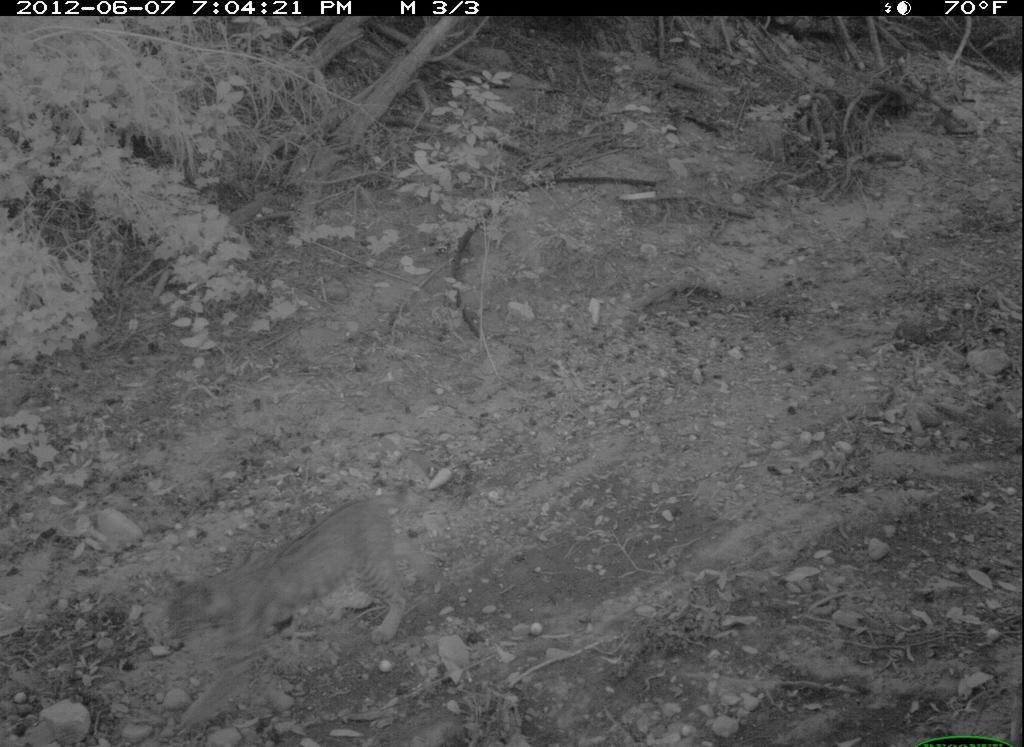bobcat: (145, 486, 420, 730)
